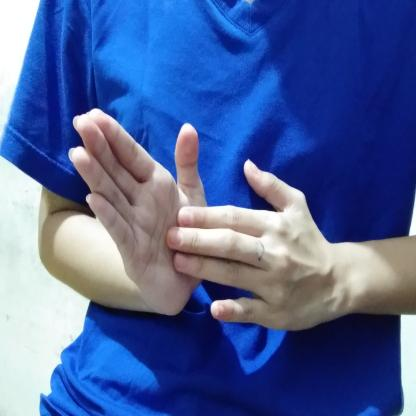mother: (65, 102, 368, 337)
